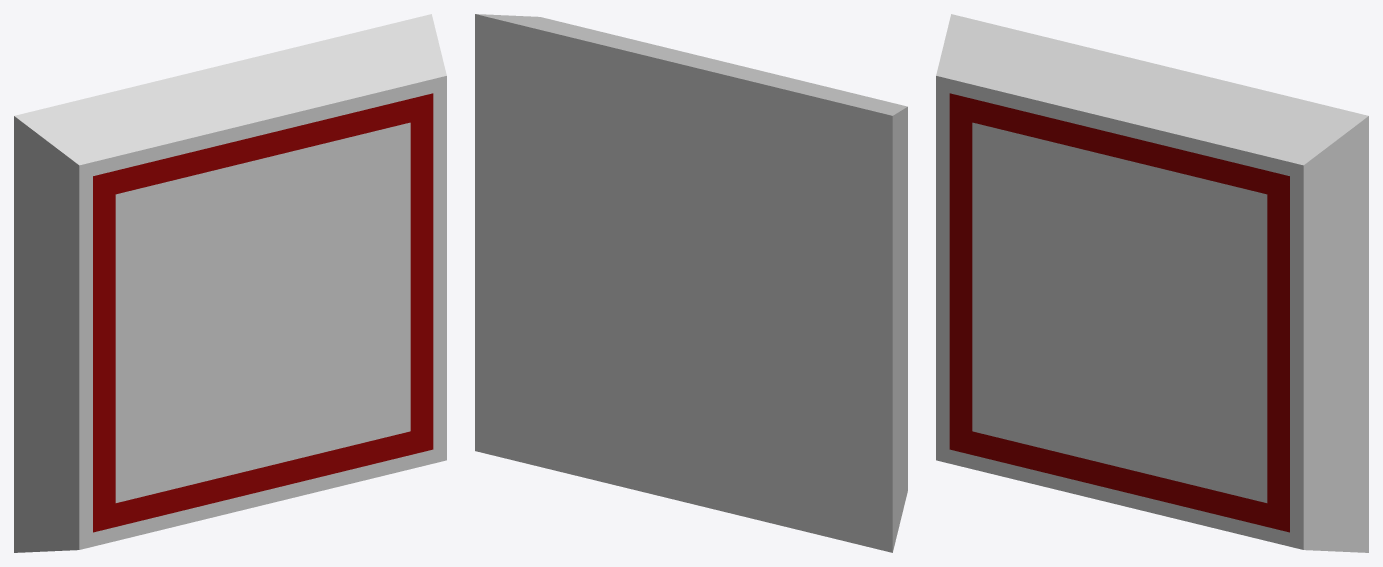
File: SciFi_Semiotic_Pressurized_Area_01.fbx
The picture shows the model from 3 angles, left to right: view 1: azimuth 30°, elevation 25°; view 2: azimuth 150°, elevation 25°; view 3: azimuth 330°, elevation 25°; orthographic projection.
Parts seen in each view (by area): view 1: Model; view 2: Model; view 3: Model.
Part boxes in pixels (x1,y1,x2,y2): Model: [14, 14, 446, 552]; Model: [475, 14, 907, 552]; Model: [936, 14, 1368, 552].
Bounding box in the file's own units: 251 × 251 × 41.83.
